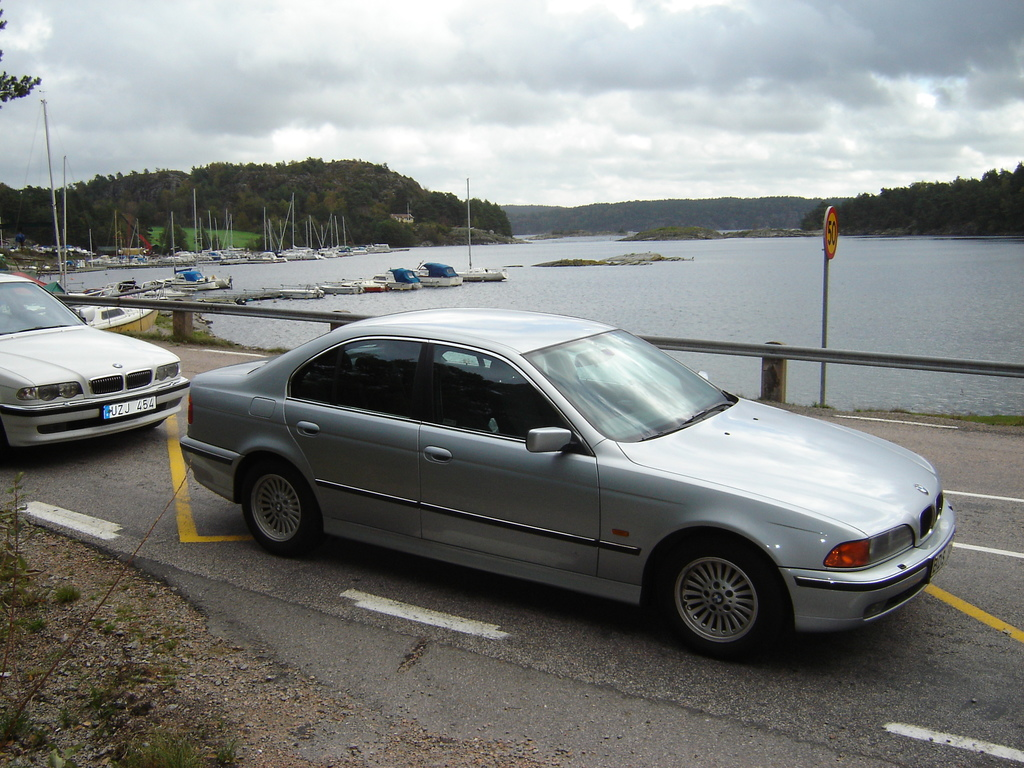Car: (177, 303, 960, 659), (0, 271, 195, 462)
